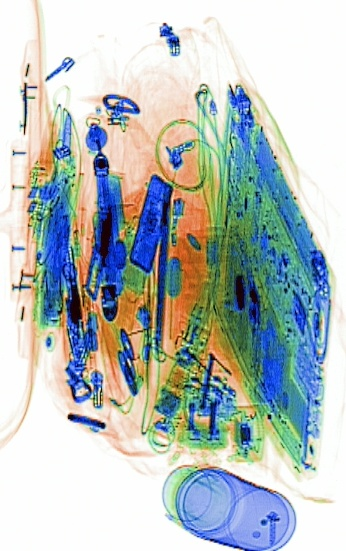powerbank: (91, 169, 128, 300)
